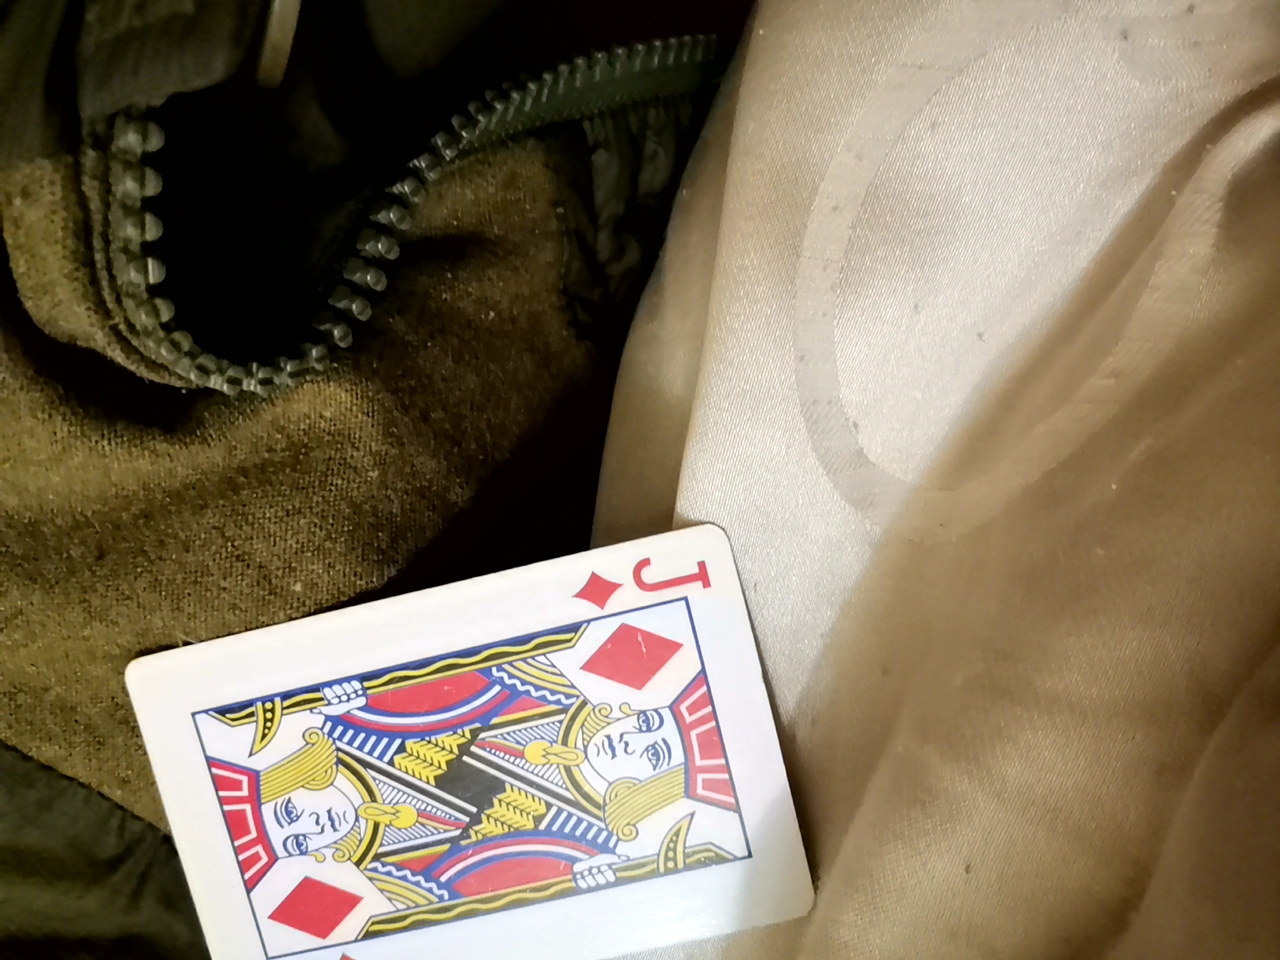fk j: (114, 502, 786, 949)
